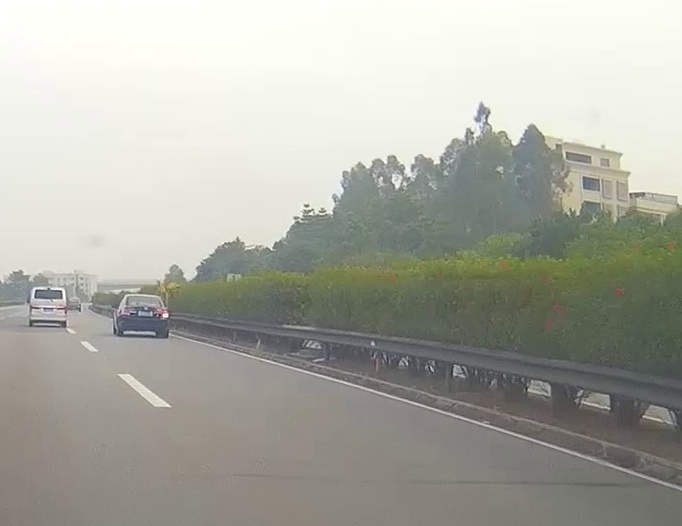L_light: (121, 308, 136, 316), (30, 306, 40, 313)
R_light: (152, 308, 168, 318), (57, 307, 67, 314)
T_light: (139, 296, 148, 298), (45, 289, 53, 291)
day-no: (29, 286, 67, 327)
day-right: (116, 294, 170, 337)
